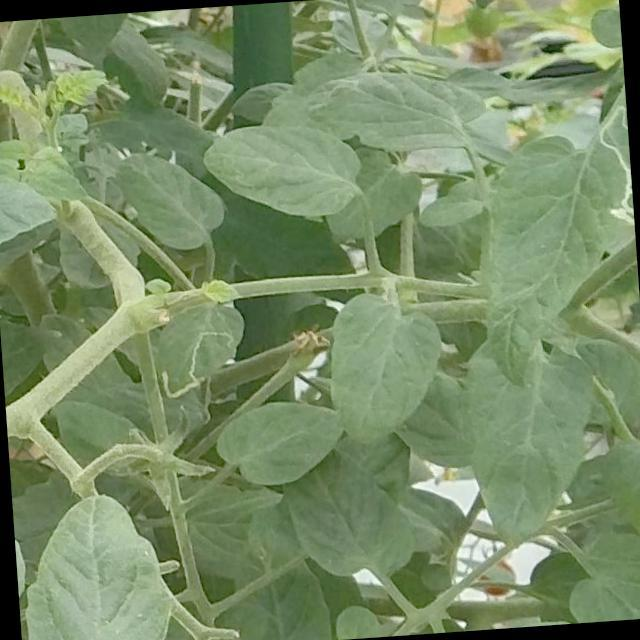Tomato healthy leaf: (454, 334, 603, 556), (326, 282, 449, 448), (200, 115, 366, 226), (208, 396, 344, 494)
Tomato target spot leaf: (153, 300, 250, 410), (584, 98, 636, 256)
